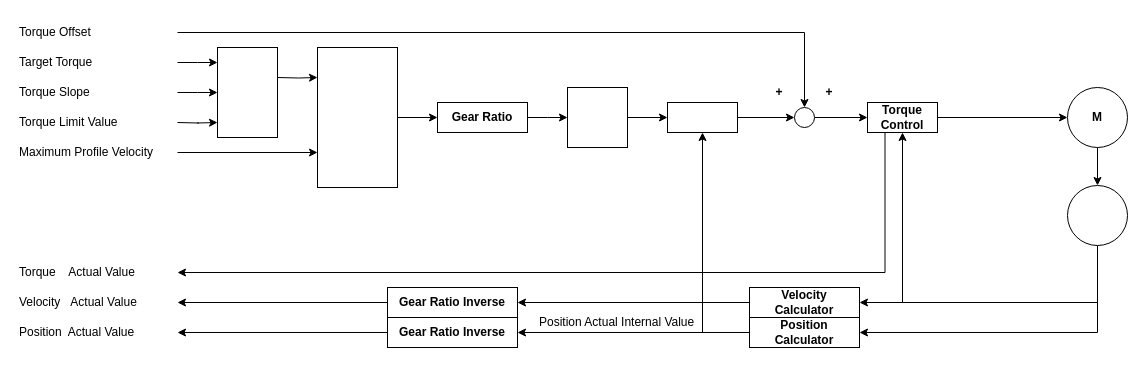
The diagram is 1145 pixels wide and 365 high, and some of its shapes have lost their labels. The centre of each missing label's shape, as x and y in pixels:
Enc.: (1097,215)
Generate Torque Command: (357,117)
Velocity Control: (702,117)
